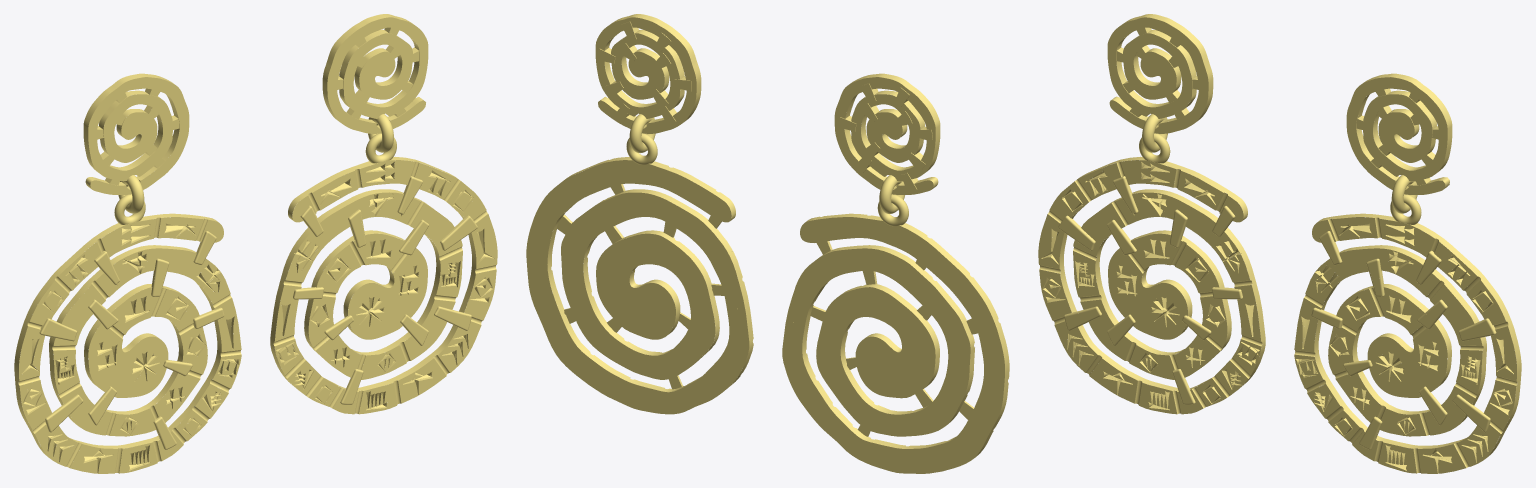
The model's file is hitit-spiral-earrings_compressed.glb.
The picture shows the model from 3 angles, left to right: view 1: azimuth 30°, elevation 25°; view 2: azimuth 150°, elevation 25°; view 3: azimuth 330°, elevation 25°; orthographic projection.
Bounding box in the file's own units: 62.5 × 48.95 × 4.7.
